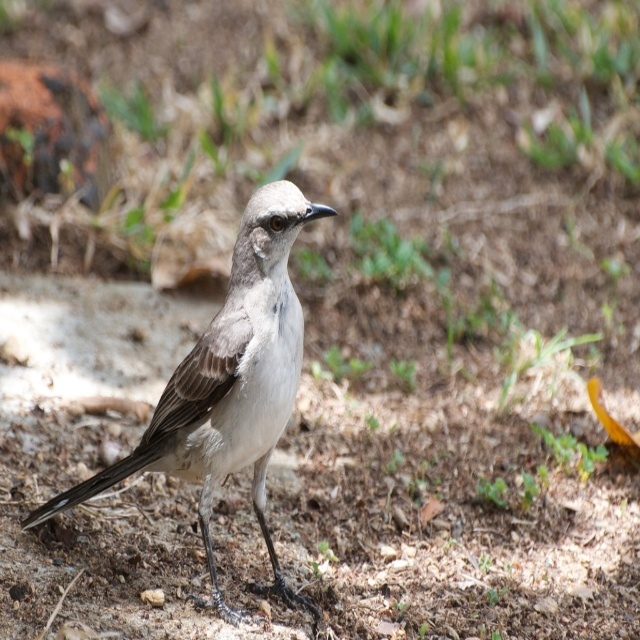Sparrow: (23, 180, 341, 621)
